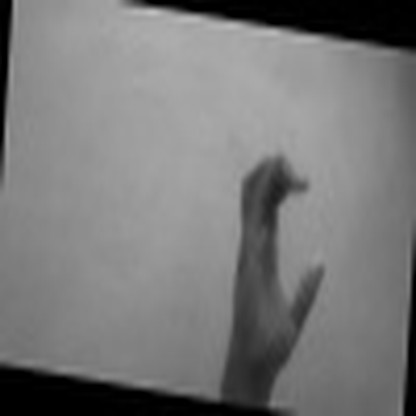c: (223, 139, 326, 365)
